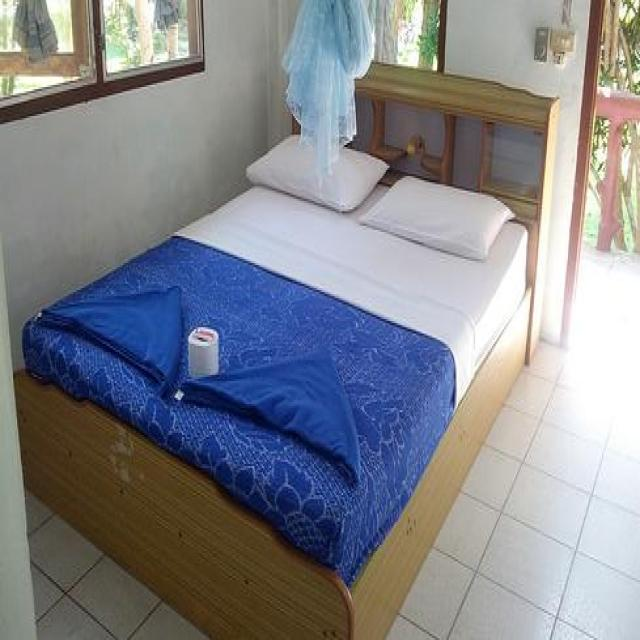bed: (12, 56, 559, 638)
